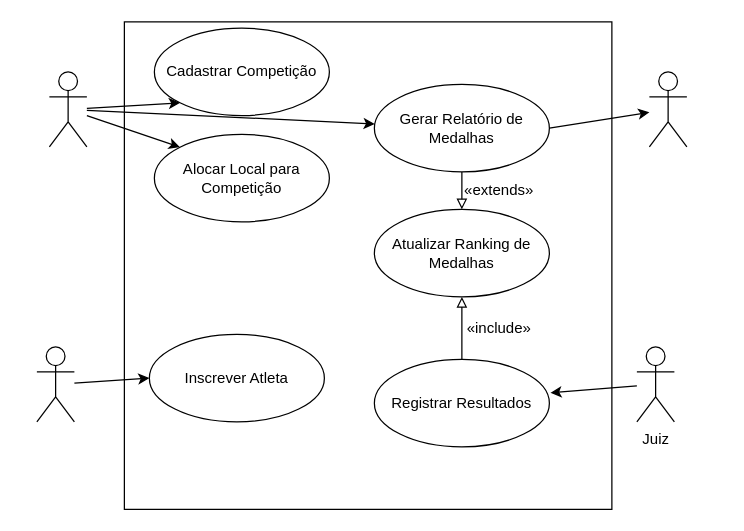
The diagram is 744 pixels wide and 531 high, and some of its shapes have lost their labels. The shapes that lost their labels are listed below. From the top down, each one's centre as x and y in pixels, then its label:
At [67,109]: "Administrador".
At [667,109]: "Sistema externo".
At [55,384]: "Atleta".
